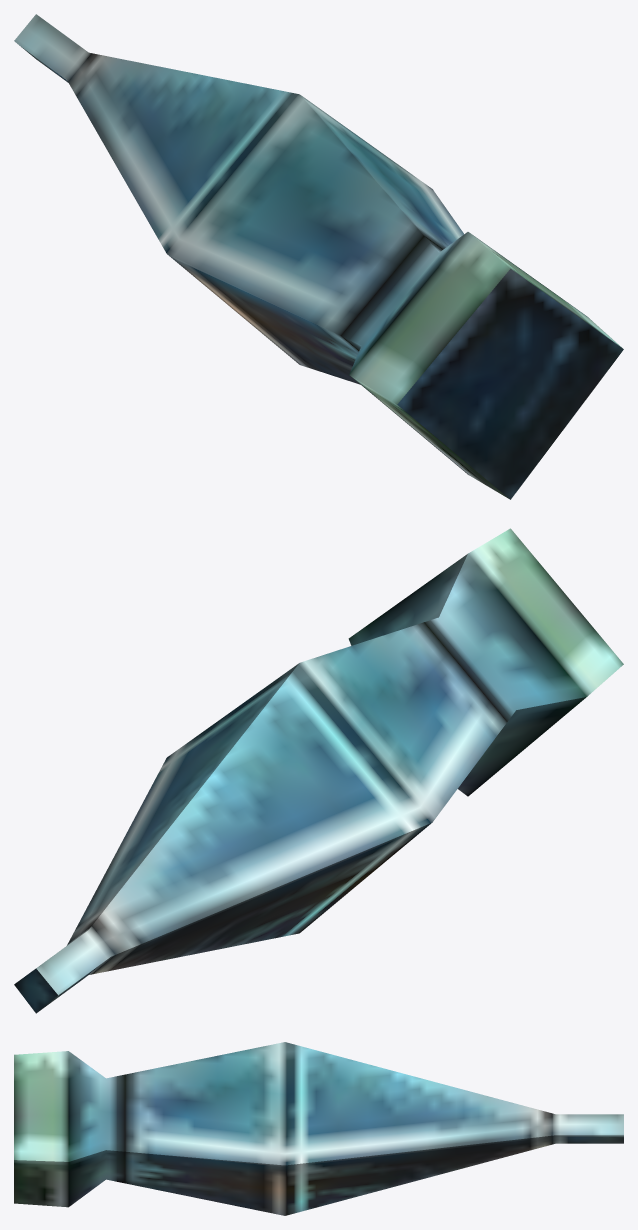
Rendered from gun12_reload.obj.
The picture shows the model from 3 angles, top to bottom: view 1: azimuth 30°, elevation 25°; view 2: azimuth 150°, elevation 25°; view 3: azimuth 270°, elevation 25°; orthographic projection. The views are drawn at different scales.
Visible parts, largest first — view 1: gun12_reload; view 2: gun12_reload; view 3: gun12_reload.
Boxes of the visible parts, x1,y1,x2,y2 form: gun12_reload: (14, 14, 623, 499); gun12_reload: (14, 528, 623, 1013); gun12_reload: (14, 1042, 623, 1215).
Size of the model in its own units: 0.1702 by 0.1656 by 0.526.
Materials: 1 (1 with a texture image).
